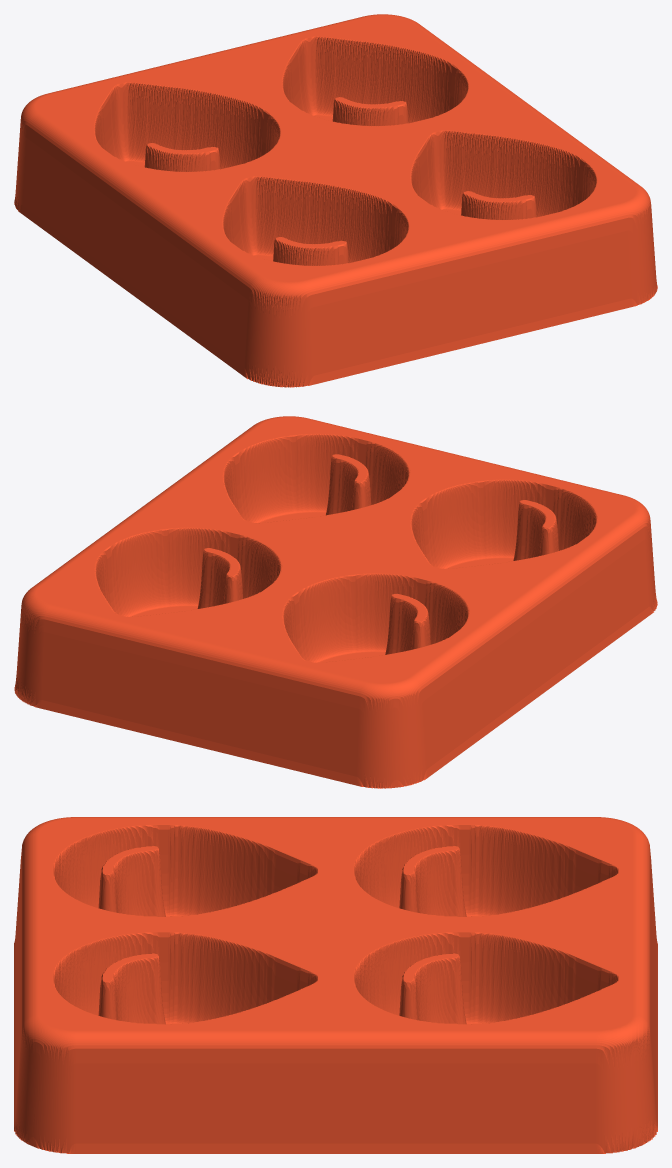
File: mold.glb
3 renders of one model, top to bottom at view 1: azimuth 30°, elevation 25°; view 2: azimuth 150°, elevation 25°; view 3: azimuth 270°, elevation 25°, orthographic. The views are drawn at different scales.
Visible parts, largest first — view 1: geometry_0; view 2: geometry_0; view 3: geometry_0.
Part boxes in pixels (x1,y1,x2,y2): geometry_0: (14,14,657,387); geometry_0: (14,416,657,788); geometry_0: (14,817,657,1153).
Size of the model in its own units: 0.0806 by 0.0182 by 0.0942.
